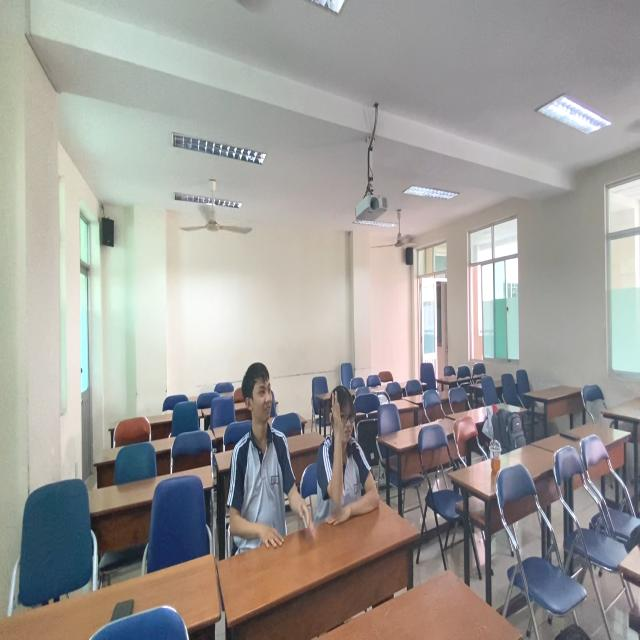raise_hand: (308, 376, 389, 532)
